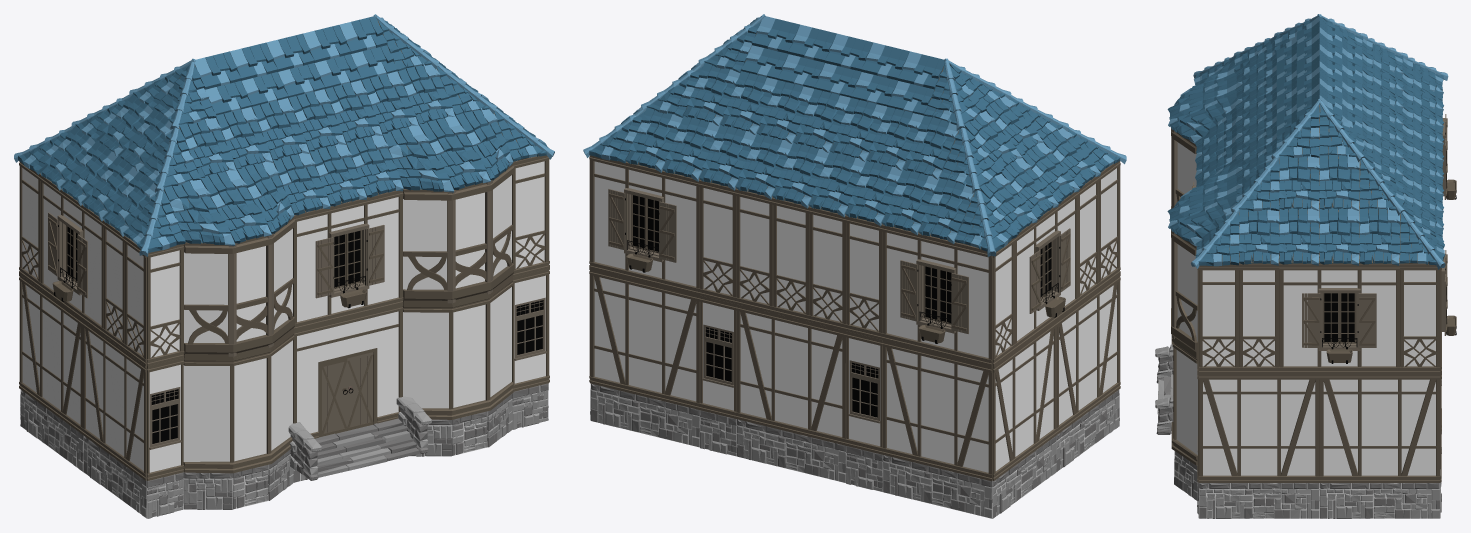
The model's file is house_14_full.glb.
The picture shows the model from 3 angles, left to right: view 1: azimuth 30°, elevation 25°; view 2: azimuth 150°, elevation 25°; view 3: azimuth 270°, elevation 25°; orthographic projection. The views are drawn at different scales.
Visible parts, largest first — view 1: WINDOW_05_2, WINDOW_01_Balkon_2, WINDOW_02_Balkon_2, WINDOW_02_Balkon_3, WINDOW_01_Balkon_3, DOOR_03_2, ROOF_base_round_3, ROOF_base_round_2, WALL_02_2, WINDOW_05_6, WALL_02_3, STAIRS_02_2 (+48 smaller); view 2: WINDOW_05_5, WALL_02_4, WALL_02_5, WALL_02_6, WINDOW_05_4, WALL_02_3, WINDOW_05_6, WALL_02_2, WALL_04_11, WALL_04_9, WALL_04_8, WALL_04_10 (+54 smaller); view 3: WALL_02_7, WINDOW_05_3, WALL_02_8, WALL_04_14, WALL_04_13, WALL_04_15, FOUNDATION_02_26, FOUNDATION_02_25, ROOF_base_round_3, ROOF_base_round_2, WINDOW_02_Balkon_3, WINDOW_01_Balkon_3 (+69 smaller).
Part boxes in pixels (bbox=[...]): WINDOW_05_2: bbox=[293, 190, 403, 330]; WINDOW_01_Balkon_2: bbox=[183, 331, 294, 473]; WINDOW_02_Balkon_2: bbox=[183, 216, 294, 358]; WINDOW_02_Balkon_3: bbox=[403, 163, 513, 304]; WINDOW_01_Balkon_3: bbox=[402, 278, 513, 419]; DOOR_03_2: bbox=[293, 304, 403, 438]; ROOF_base_round_3: bbox=[382, 108, 513, 192]; ROOF_base_round_2: bbox=[164, 161, 294, 245]; WALL_02_2: bbox=[82, 320, 146, 480]; WINDOW_05_6: bbox=[40, 174, 104, 334]; WALL_02_3: bbox=[19, 274, 83, 433]; STAIRS_02_2: bbox=[288, 396, 431, 480]; WINDOW_05_5: bbox=[882, 224, 992, 366]; WALL_02_4: bbox=[882, 340, 992, 481]; WALL_02_5: bbox=[736, 304, 846, 445]; WALL_02_6: bbox=[590, 268, 700, 409]; WINDOW_05_4: bbox=[590, 155, 699, 295]; WALL_02_3: bbox=[992, 320, 1057, 480]; WINDOW_05_6: bbox=[1014, 192, 1078, 350]; WALL_02_2: bbox=[1056, 274, 1120, 434]; WALL_04_11: bbox=[736, 189, 773, 312]; WALL_04_9: bbox=[809, 207, 846, 330]; WALL_04_8: bbox=[845, 215, 882, 339]; WALL_04_10: bbox=[772, 198, 809, 321]; WALL_02_7: bbox=[1319, 373, 1440, 482]; WINDOW_05_3: bbox=[1279, 263, 1399, 373]; WALL_02_8: bbox=[1199, 373, 1319, 482]; WALL_04_14: bbox=[1239, 263, 1279, 373]; WALL_04_13: bbox=[1400, 263, 1440, 373]; WALL_04_15: bbox=[1199, 264, 1239, 373]; FOUNDATION_02_26: bbox=[1319, 483, 1440, 518]; FOUNDATION_02_25: bbox=[1199, 483, 1319, 518]; ROOF_base_round_3: bbox=[1167, 158, 1237, 246]; ROOF_base_round_2: bbox=[1167, 56, 1236, 143]; WINDOW_02_Balkon_3: bbox=[1171, 230, 1197, 355]; WINDOW_01_Balkon_3: bbox=[1171, 340, 1197, 465].
Size of the model in its own units: 11.82 by 10.12 by 7.5.
1 material, 1 textured.
